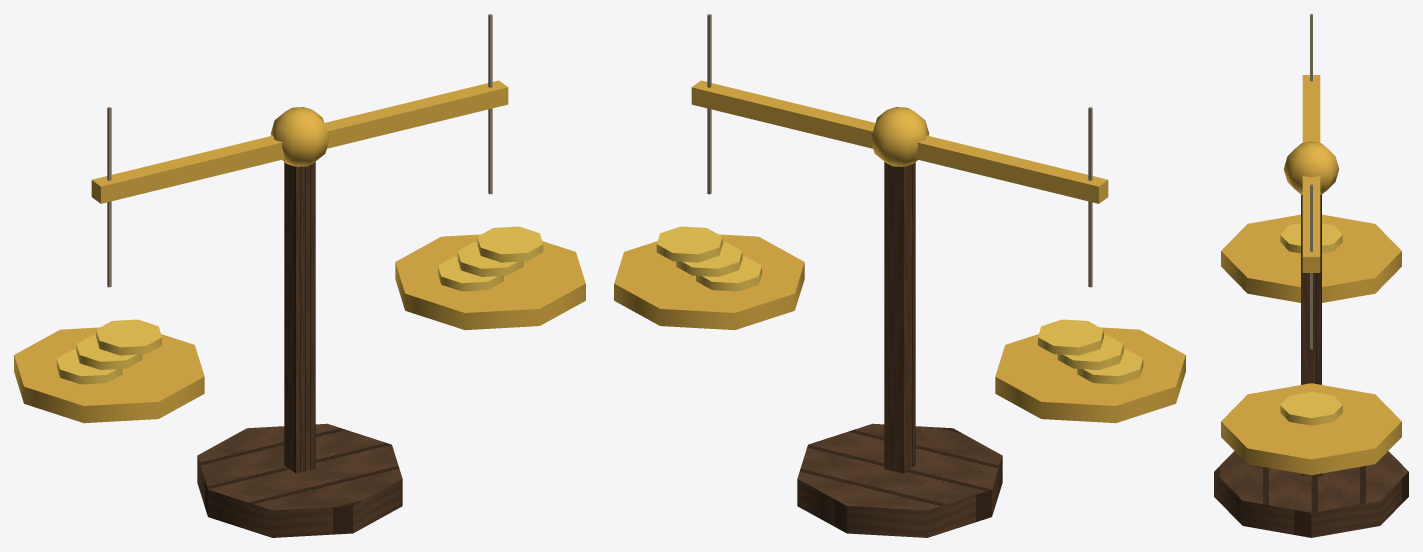
The model's file is mercader.glb.
3 renders of one model, left to right at view 1: azimuth 30°, elevation 25°; view 2: azimuth 150°, elevation 25°; view 3: azimuth 270°, elevation 25°, orthographic. The views are drawn at different scales.
Parts seen in each view (by area): view 1: mercader; view 2: mercader; view 3: mercader.
Part boxes in pixels (x1=…): mercader: x1=14, y1=14, x2=585, y2=537; mercader: x1=614, y1=14, x2=1185, y2=537; mercader: x1=1214, y1=14, x2=1408, y2=537.
Size of the model in its own units: 0.84 by 0.63 by 0.28.
4 materials, 1 textured.
